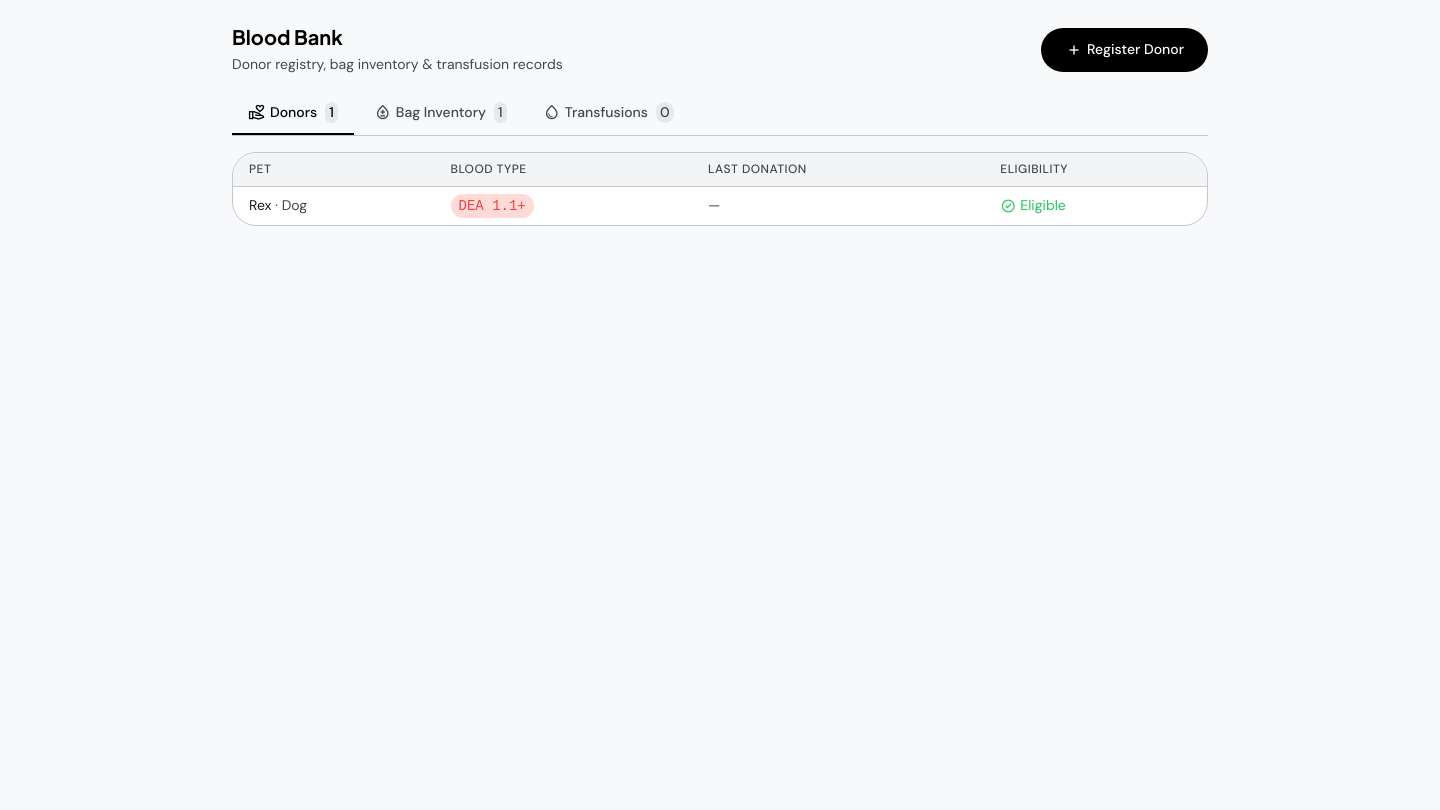
AdminBloodBank — DonorModal (MODAL-9, dismissible default) › opens from "Register Donor" with an <h2> title and a close control
Click the button "Register Donor" at (1124, 50), box [1041,28,1208,72]
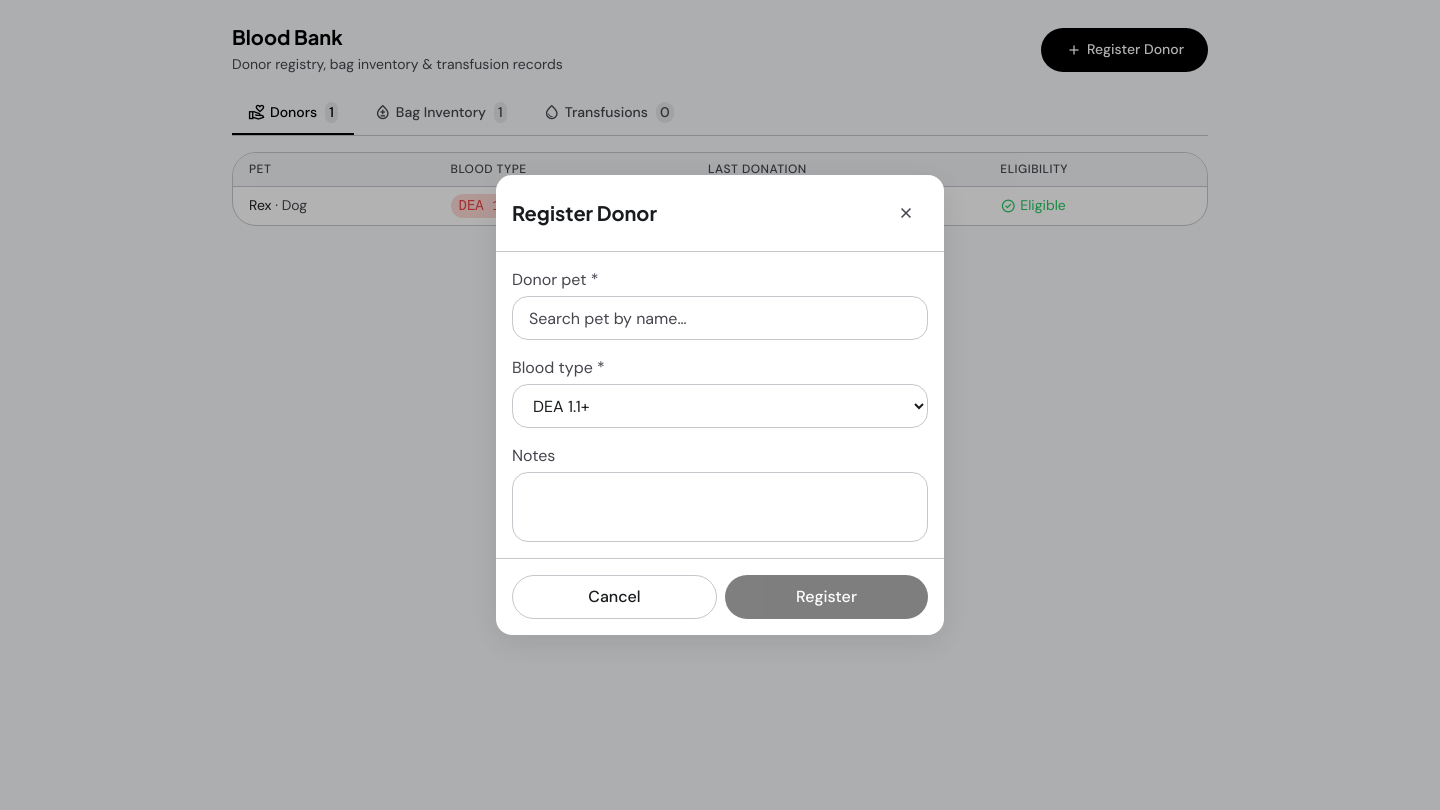
expect the heading "Register Donor" is shown: met, box [512,200,657,226]
expect the button named "Close dialog" is shown: met, box [884,191,928,235]
